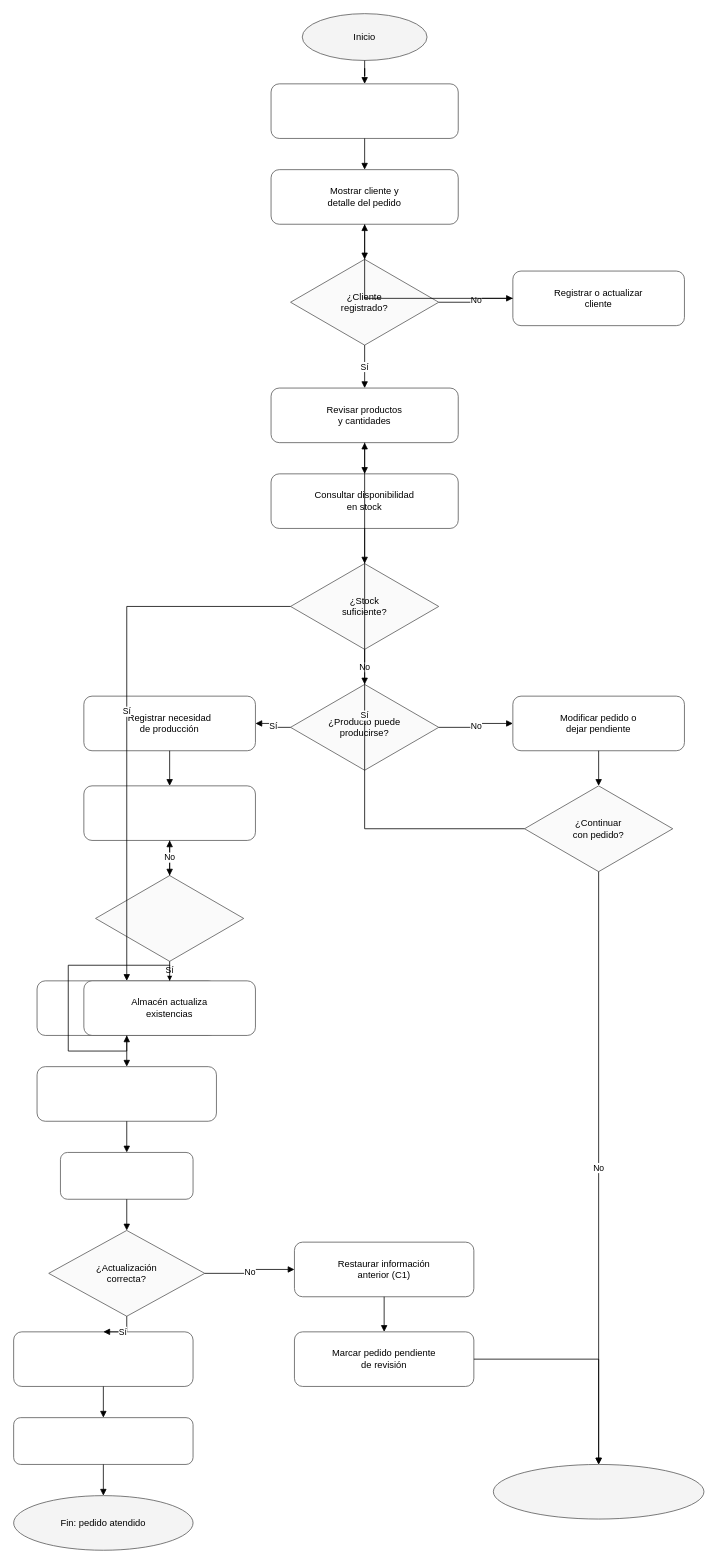
The diagram is 718 pixels wide and 1564 high, and some of its shapes have lost their labels. The box of each missing label's shape, as (x1, y1, x2, y2) in pixels:
Actualizar estado del pedido: (13, 1331, 193, 1386)
Actualizar stock: (60, 1152, 193, 1199)
Confirmar atención del pedido: (36, 1066, 216, 1121)
Fin: pedido pendiente o cancelado: (493, 1464, 704, 1519)
Mostrar confirmación: (13, 1417, 193, 1464)
Producción actualiza estado del producto: (83, 785, 255, 840)
Recibir o seleccionar pedido pendiente: (270, 83, 458, 138)
¿Producto disponible?: (95, 875, 244, 961)
